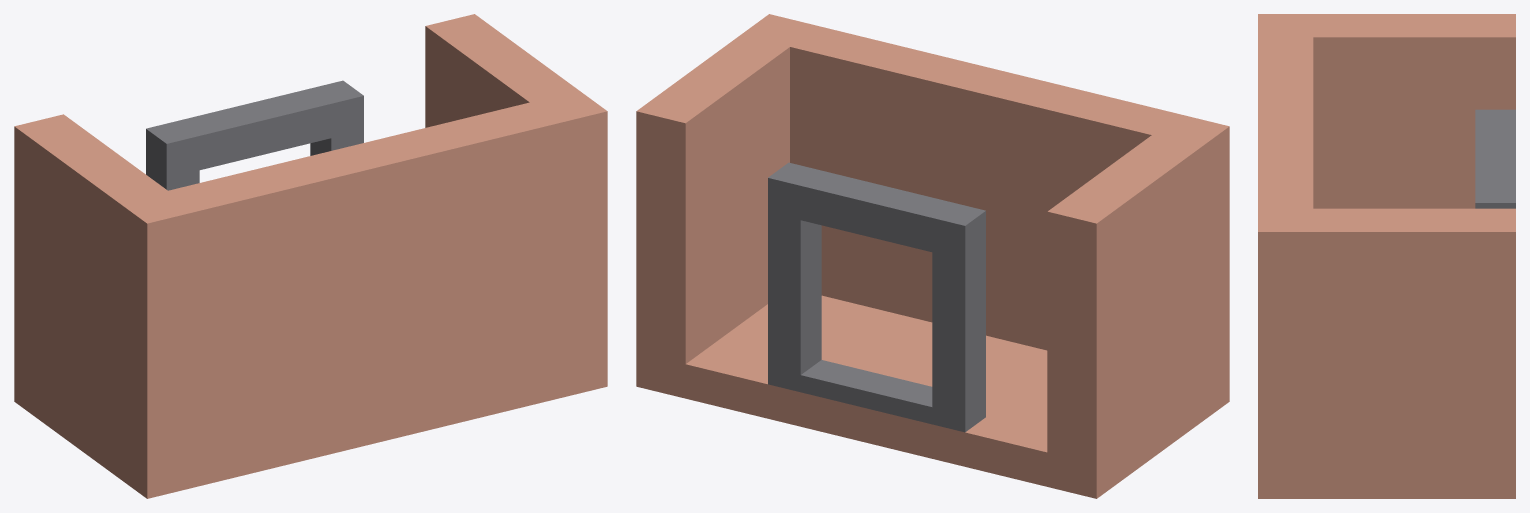
File: ethiopian_cut.glb
3 renders of one model, left to right at view 1: azimuth 30°, elevation 25°; view 2: azimuth 150°, elevation 25°; view 3: azimuth 270°, elevation 25°, orthographic. The views are drawn at different scales.
Visible parts, largest first — view 1: ethiopian_cut; view 2: ethiopian_cut; view 3: ethiopian_cut.
Boxes of the visible parts, left/top/right/bottom form: ethiopian_cut: left=14, top=14, right=607, bottom=498; ethiopian_cut: left=636, top=14, right=1229, bottom=498; ethiopian_cut: left=1258, top=14, right=1515, bottom=498.
Size of the model in its own units: 17.5 by 10 by 8.75.
